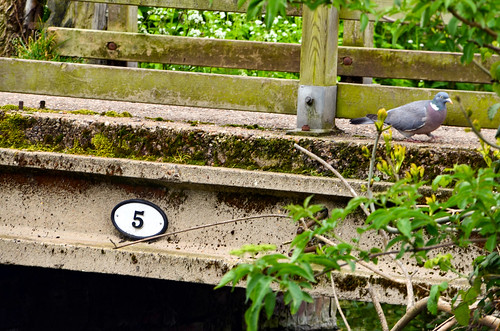animal: (353, 90, 452, 145)
